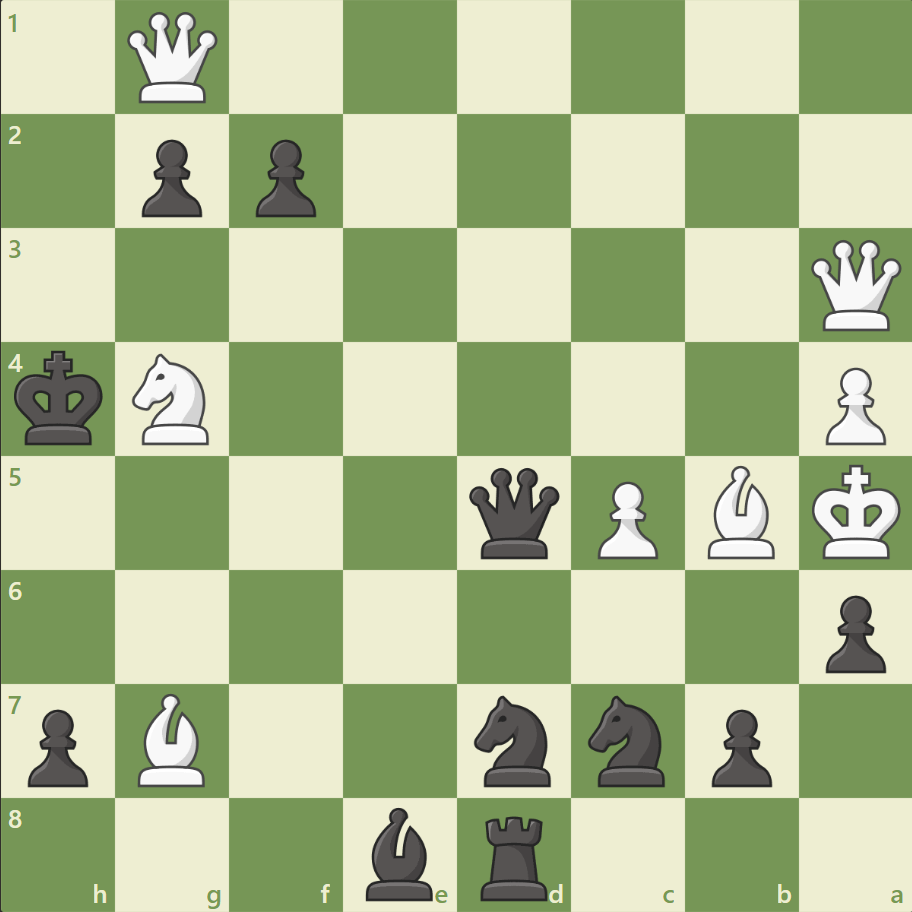B: (131, 687, 215, 790), (698, 460, 782, 563)
K: (806, 458, 906, 566)
N: (124, 348, 222, 450)
P: (588, 473, 662, 564), (815, 359, 889, 450)
Q: (805, 236, 904, 335), (124, 9, 223, 108)
b: (358, 801, 442, 904)
k: (11, 344, 111, 452)
n: (579, 688, 676, 791), (465, 688, 562, 791)
p: (701, 700, 776, 791), (20, 700, 95, 791), (247, 132, 322, 223), (133, 132, 208, 223), (815, 586, 889, 677)
q: (464, 463, 563, 562)
r: (473, 806, 556, 904)
